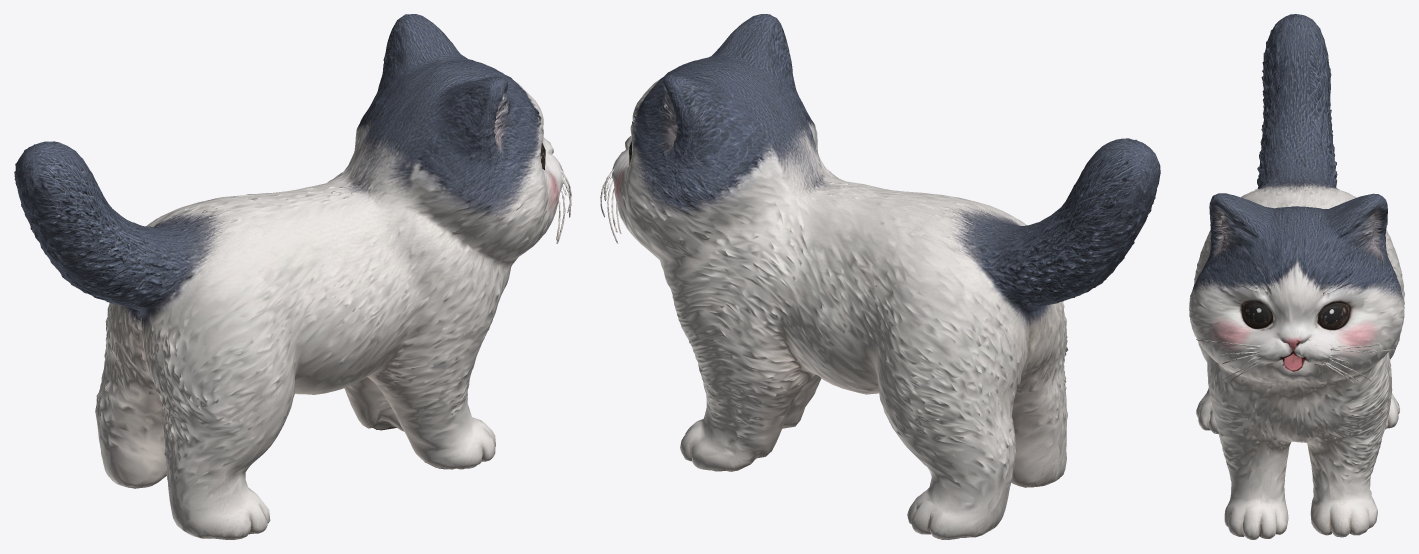
The model's file is HACHIWA.glb.
3 renders of one model, left to right at view 1: azimuth 30°, elevation 25°; view 2: azimuth 150°, elevation 25°; view 3: azimuth 270°, elevation 25°, orthographic. The views are drawn at different scales.
Parts seen in each view (by area): view 1: tripo_node_84a224aa-b64e-4b87-8ac6-05e588632769; view 2: tripo_node_84a224aa-b64e-4b87-8ac6-05e588632769; view 3: tripo_node_84a224aa-b64e-4b87-8ac6-05e588632769.
Part boxes in pixels (x1,y1,x2,y2): tripo_node_84a224aa-b64e-4b87-8ac6-05e588632769: (14, 14, 571, 539); tripo_node_84a224aa-b64e-4b87-8ac6-05e588632769: (600, 14, 1160, 539); tripo_node_84a224aa-b64e-4b87-8ac6-05e588632769: (1189, 14, 1404, 539).
Size of the model in its own units: 1.41 by 0.9989 by 0.5644.
1 material, 1 textured.
